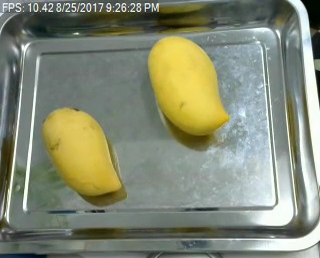Mango: (144, 36, 225, 135), (41, 106, 121, 199)
